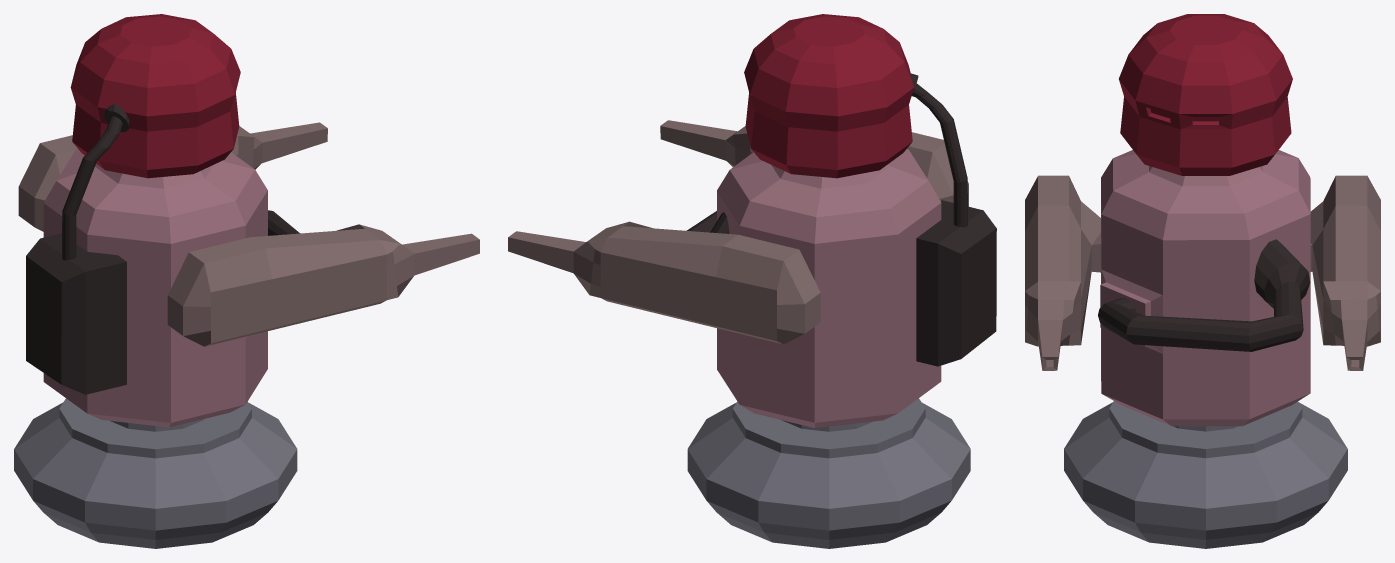
File: robot1.fbx
The picture shows the model from 3 angles, left to right: view 1: azimuth 30°, elevation 25°; view 2: azimuth 150°, elevation 25°; view 3: azimuth 270°, elevation 25°; orthographic projection.
Visible parts, largest first — view 1: Circle, Circle.002, Cube.001, Circle.001, Cube.002, Cube; view 2: Circle, Circle.002, Circle.001, Cube, Cube.002, Cube.001; view 3: Circle, Circle.002, Circle.001, Cube.001, Cube, Circle.003.
Part boxes in pixels (left/top/right/bottom): Circle: left=43, top=149, right=267, bottom=427; Circle.002: left=14, top=398, right=297, bottom=548; Cube.001: left=167, top=224, right=479, bottom=346; Circle.001: left=70, top=14, right=240, bottom=178; Cube.002: left=26, top=104, right=129, bottom=394; Cube: left=18, top=122, right=327, bottom=231; Circle: left=717, top=149, right=941, bottom=428; Circle.002: left=687, top=398, right=970, bottom=548; Circle.001: left=744, top=14, right=913, bottom=178; Cube: left=508, top=221, right=820, bottom=344; Cube.002: left=910, top=73, right=996, bottom=366; Cube.001: left=660, top=120, right=968, bottom=206; Circle: left=1100, top=150, right=1310, bottom=426; Circle.002: left=1064, top=401, right=1347, bottom=548; Circle.001: left=1119, top=14, right=1292, bottom=175; Cube.001: left=1025, top=175, right=1101, bottom=370; Cube: left=1310, top=175, right=1380, bottom=370; Circle.003: left=1098, top=239, right=1310, bottom=351.
Size of the model in its own units: 381 by 458 by 314.
